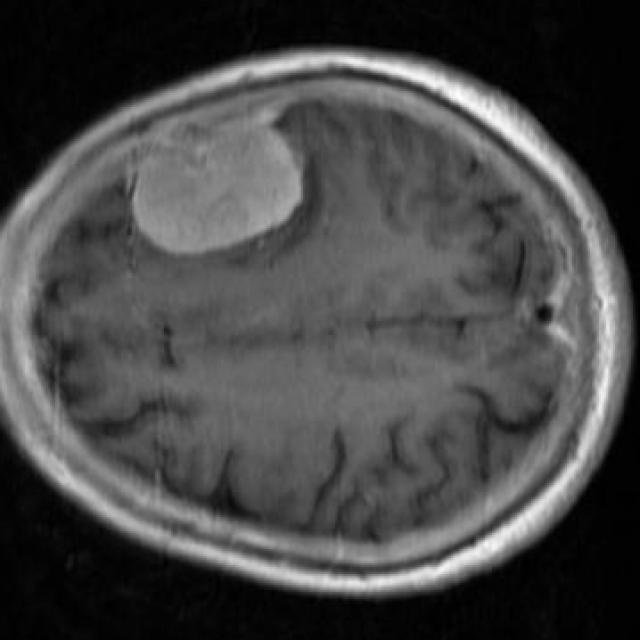meningioma: (132, 121, 301, 255)
